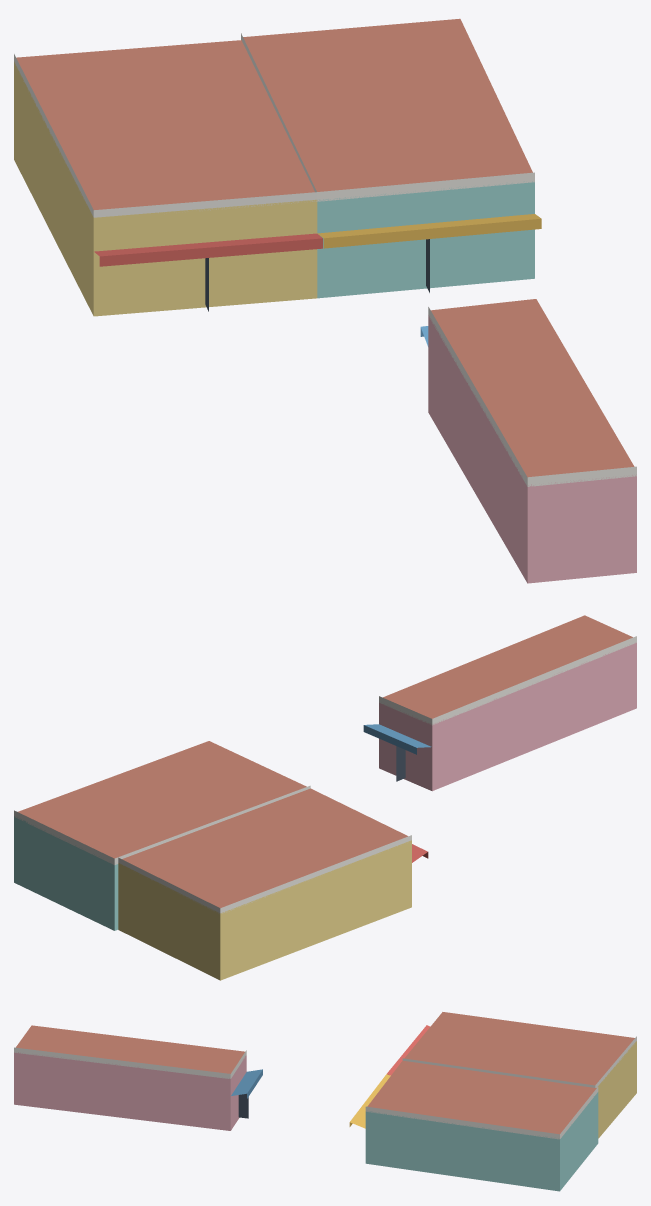
Rendered from snmain_east.glb.
The picture shows the model from 3 angles, top to bottom: view 1: azimuth 30°, elevation 25°; view 2: azimuth 150°, elevation 25°; view 3: azimuth 270°, elevation 25°; orthographic projection. The views are drawn at different scales.
Parts seen in each view (by area): view 1: snmain_east_lod0; view 2: snmain_east_lod0; view 3: snmain_east_lod0.
Part boxes in pixels (bbox=[...]): snmain_east_lod0: bbox=[14, 18, 636, 583]; snmain_east_lod0: bbox=[14, 615, 636, 980]; snmain_east_lod0: bbox=[14, 1012, 636, 1191].
Size of what is drawn, in the model's own units: 18.74 by 3.93 by 38.8.
